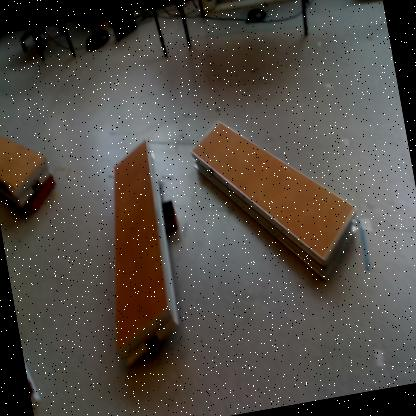Stairs: (192, 120, 358, 279), (115, 137, 181, 373), (1, 135, 53, 210), (24, 360, 42, 410)
